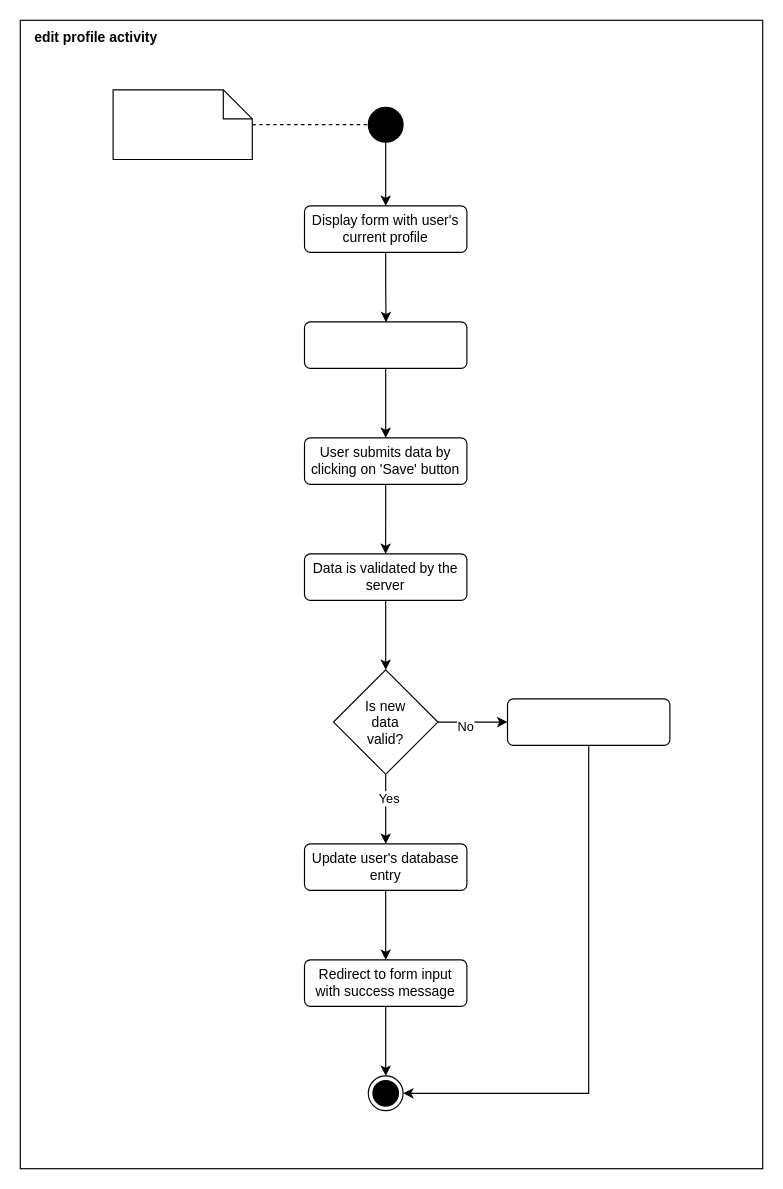
This 783x1189 diagram has some shape labels left out. Here are the shapes that lost their labels. From the top down, the centre of each, then its label:
At point (182, 124): "User is signed in".
At point (385, 344): "User enters new credentials".
At point (588, 721): "Redirect to form input with error message".
